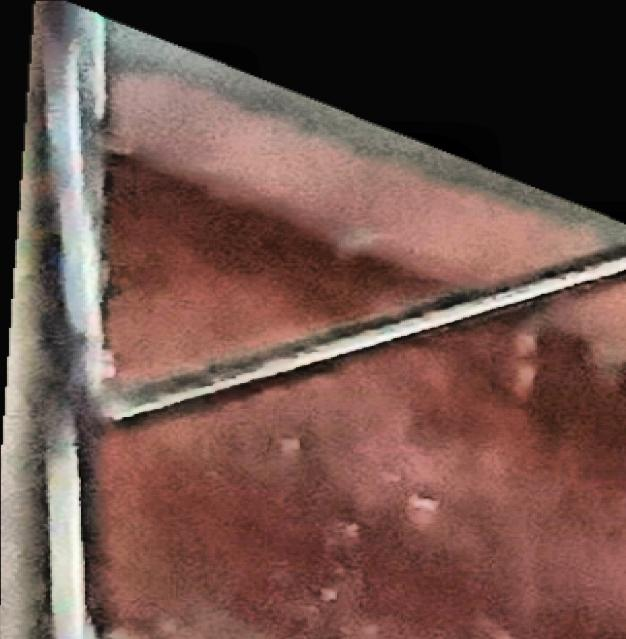stairs: (0, 1, 626, 639)
